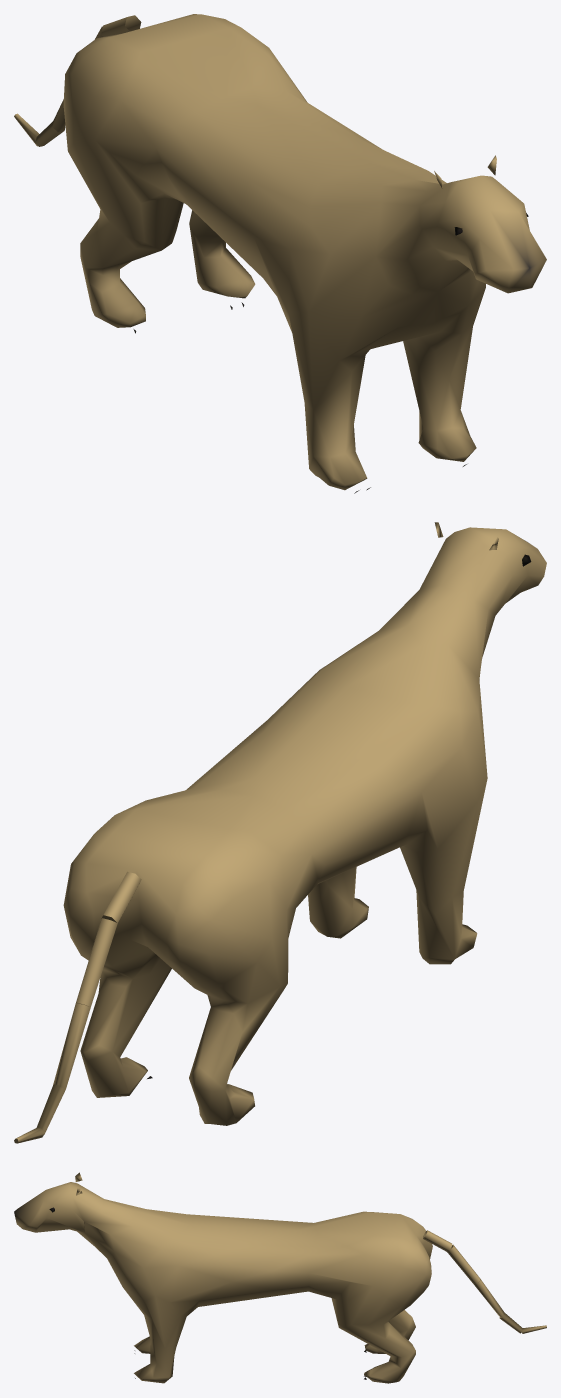
Rendered from jaguar.glb.
3 views of the same model, one above another, from view 1: azimuth 30°, elevation 25°; view 2: azimuth 150°, elevation 25°; view 3: azimuth 270°, elevation 25° (orthographic). The views are drawn at different scales.
Parts seen in each view (by area): view 1: lack; view 2: lack; view 3: lack.
Part boxes in pixels (left/top/right/bottom): lack: left=14, top=14, right=546, bottom=493; lack: left=14, top=522, right=546, bottom=1143; lack: left=14, top=1172, right=546, bottom=1383.
Size of the model in its own units: 0.5248 by 0.9107 by 2.36.
